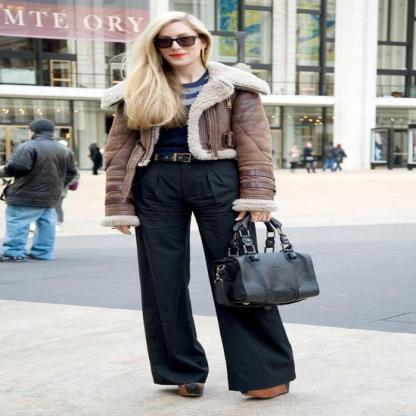jacket: (98, 59, 276, 226)
pants: (131, 152, 296, 386)
